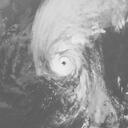cyclone: (35, 33, 88, 79)
